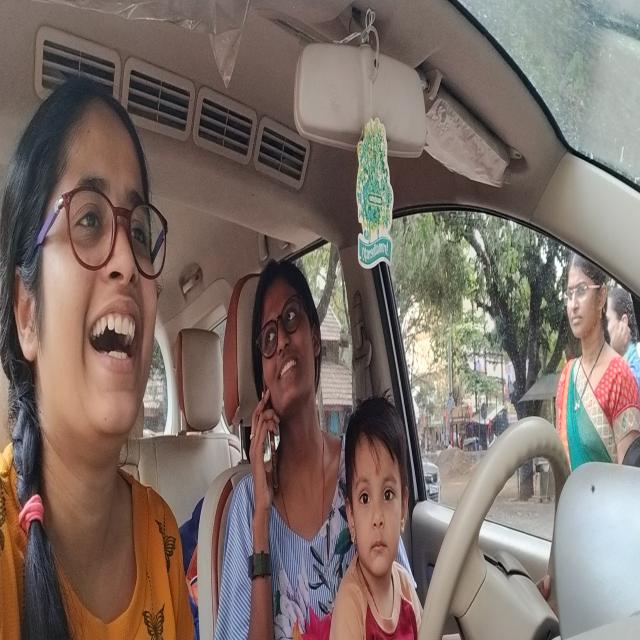child: (343, 393, 413, 582)
mobile: (256, 382, 286, 498)
person: (1, 68, 174, 457), (249, 256, 325, 422)
